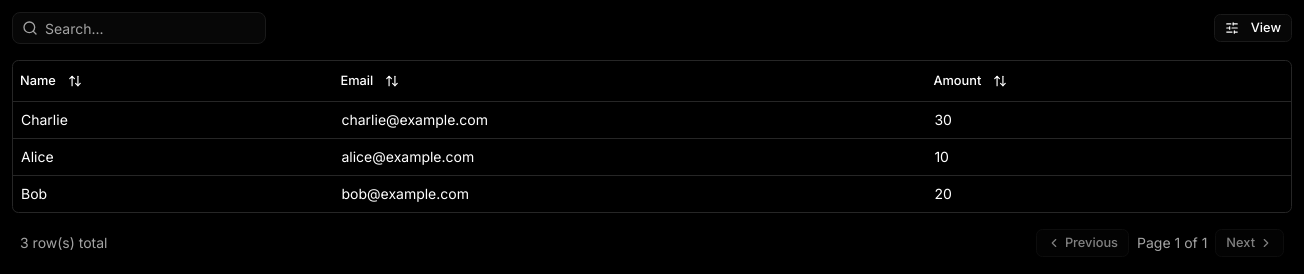
Test: DataTable › shows an empty state when a filter matches nothing
The width and height of the screenshot is (1304, 274).
In the field with placeholder "Search...": (139, 28) [12, 12, 266, 44], type "zzzznomatch"
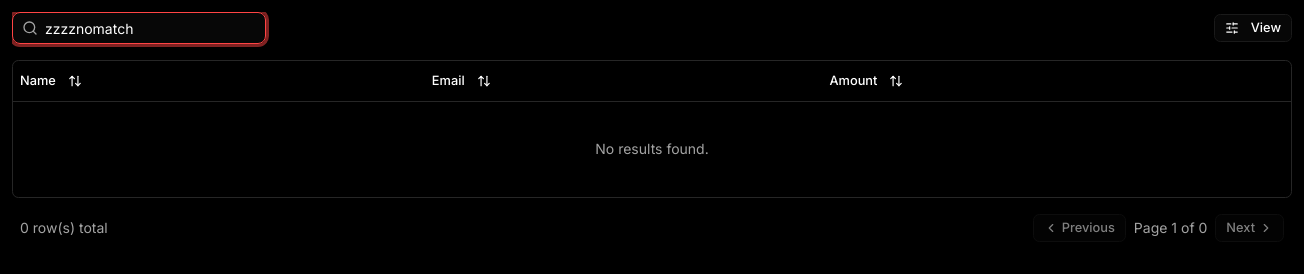
Expected: the text "Alice" is gone
